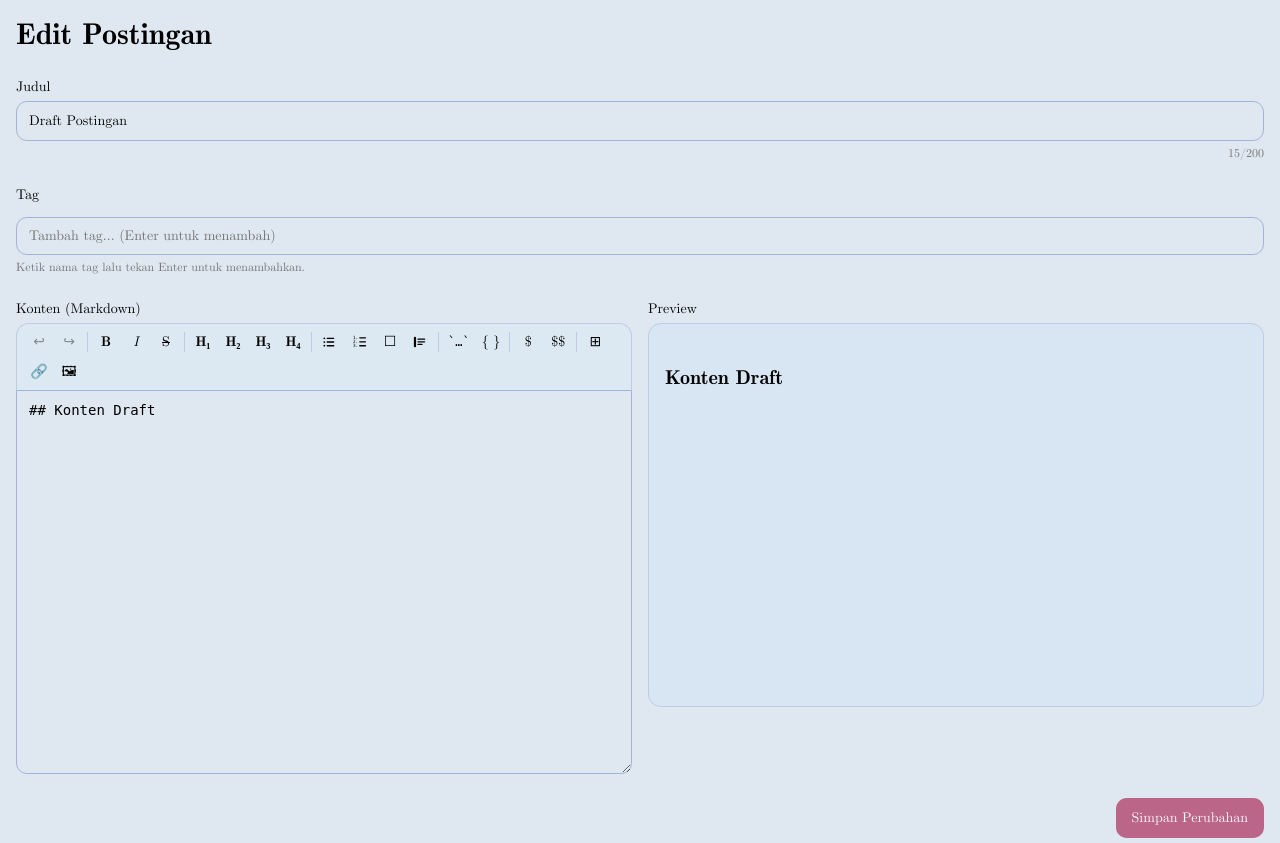
Scenario: EditPostPage › shows generic error message when update API fails without message
(page scrolled)
expect the field labelled "Judul" is shown: met, box top-left (16, 101), bottom-right (1264, 141)
Click the button "Simpan Perubahan" at x=1190, y=818, box top-left (1116, 798), bottom-right (1264, 838)
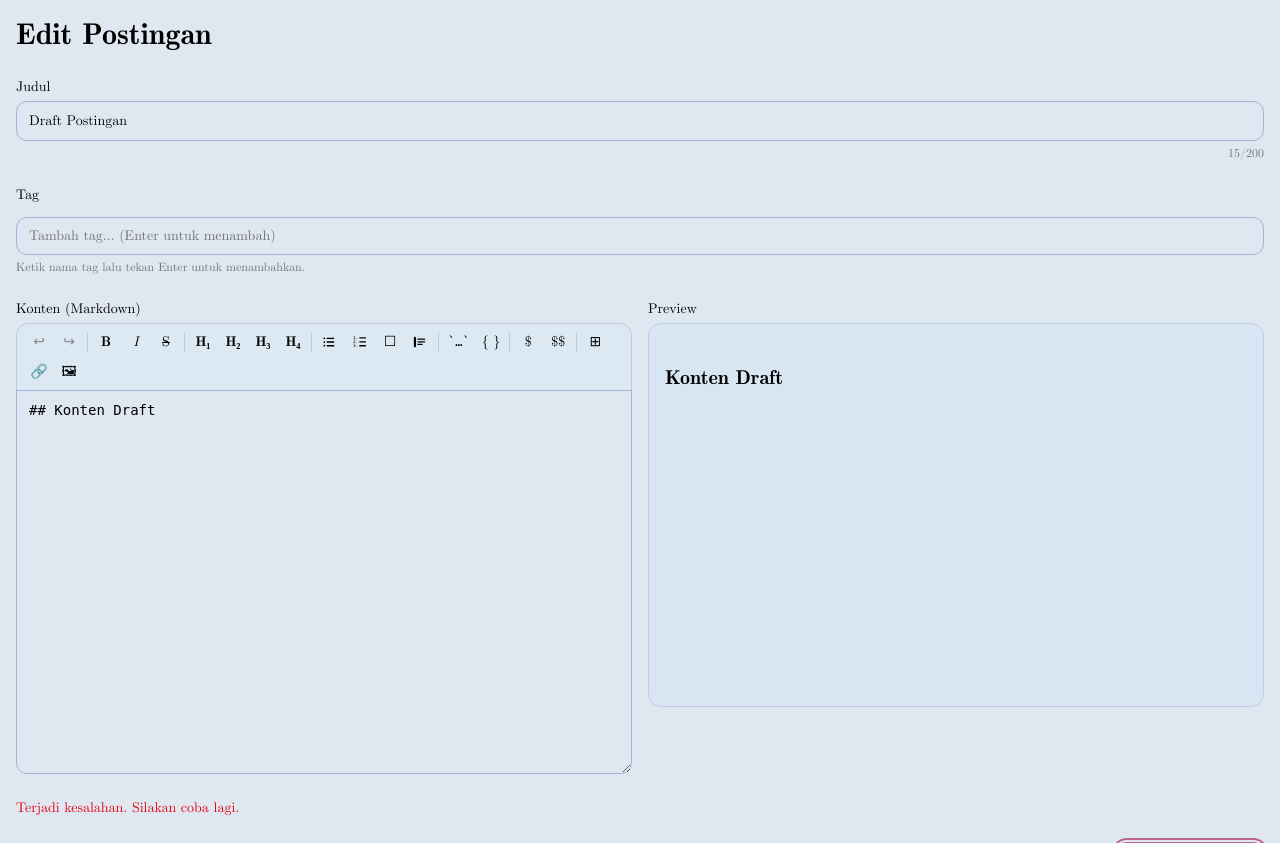
expect the text "Terjadi kesalahan. Silakan coba lagi." is shown: met, box top-left (16, 801), bottom-right (239, 815)
